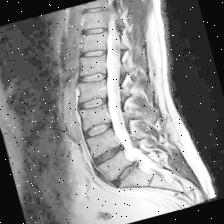disc: (74, 90, 114, 118), (82, 116, 119, 140), (77, 0, 110, 20)
hdisc: (105, 157, 150, 191), (88, 140, 132, 168), (74, 65, 112, 91), (77, 20, 114, 46), (76, 41, 114, 66)
